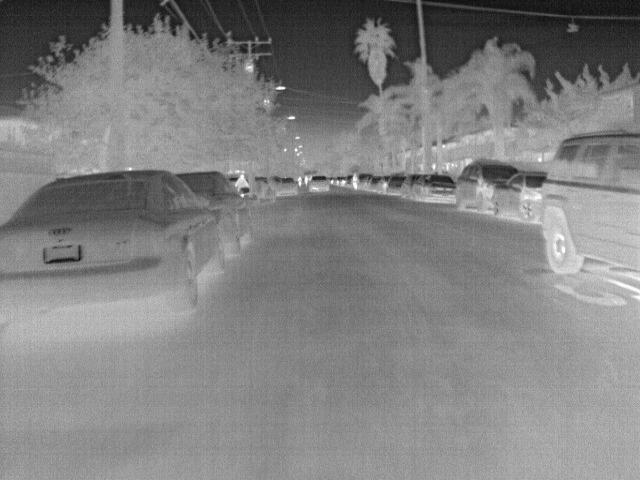car: (1, 170, 230, 330), (538, 130, 640, 278), (175, 169, 257, 257), (454, 161, 519, 211), (488, 174, 546, 222), (412, 174, 455, 204), (383, 173, 411, 196), (254, 176, 278, 202), (401, 174, 422, 199), (276, 175, 300, 196), (307, 175, 330, 194), (357, 172, 373, 190), (369, 176, 385, 192)
person: (234, 172, 251, 198), (350, 171, 362, 190)
